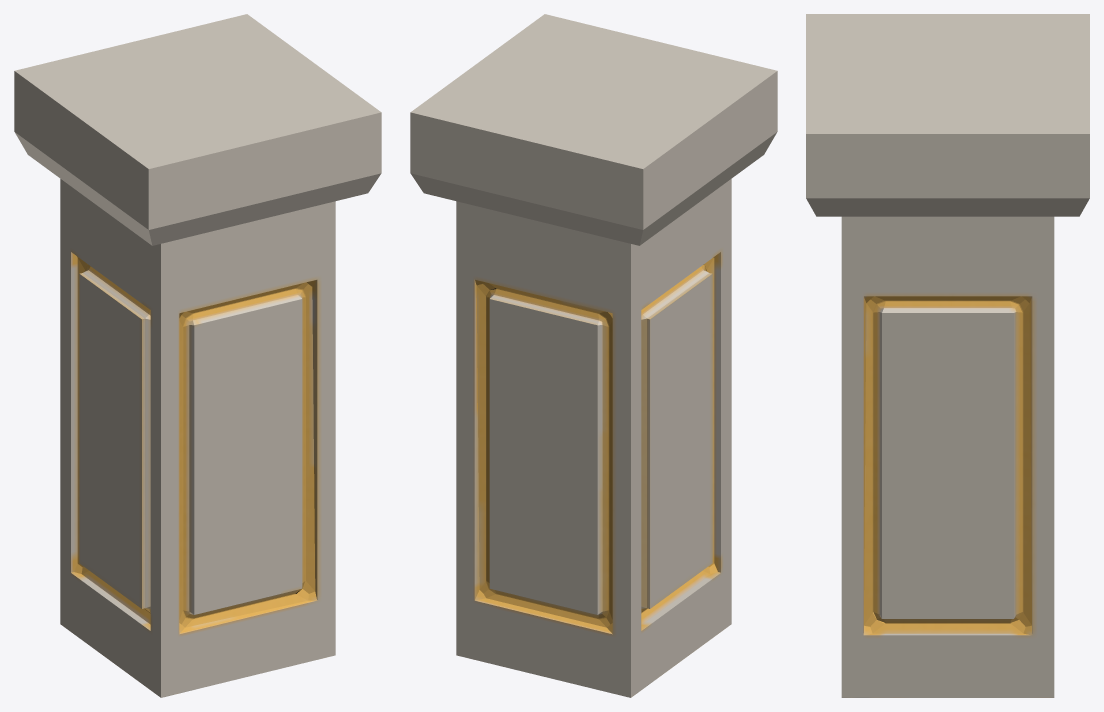
Rendered from ColunaParapeitoSuperiorComDetalhe.fbx.
3 renders of one model, left to right at view 1: azimuth 30°, elevation 25°; view 2: azimuth 150°, elevation 25°; view 3: azimuth 270°, elevation 25°, orthographic. The views are drawn at different scales.
Parts seen in each view (by area): view 1: ColunaSuperiorLow; view 2: ColunaSuperiorLow; view 3: ColunaSuperiorLow.
Boxes of the visible parts, x1,y1,x2,y2 form: ColunaSuperiorLow: (14,14,381,697); ColunaSuperiorLow: (410,14,777,697); ColunaSuperiorLow: (806,14,1089,697).
Bounding box in the file's own units: 40 × 90 × 40.
